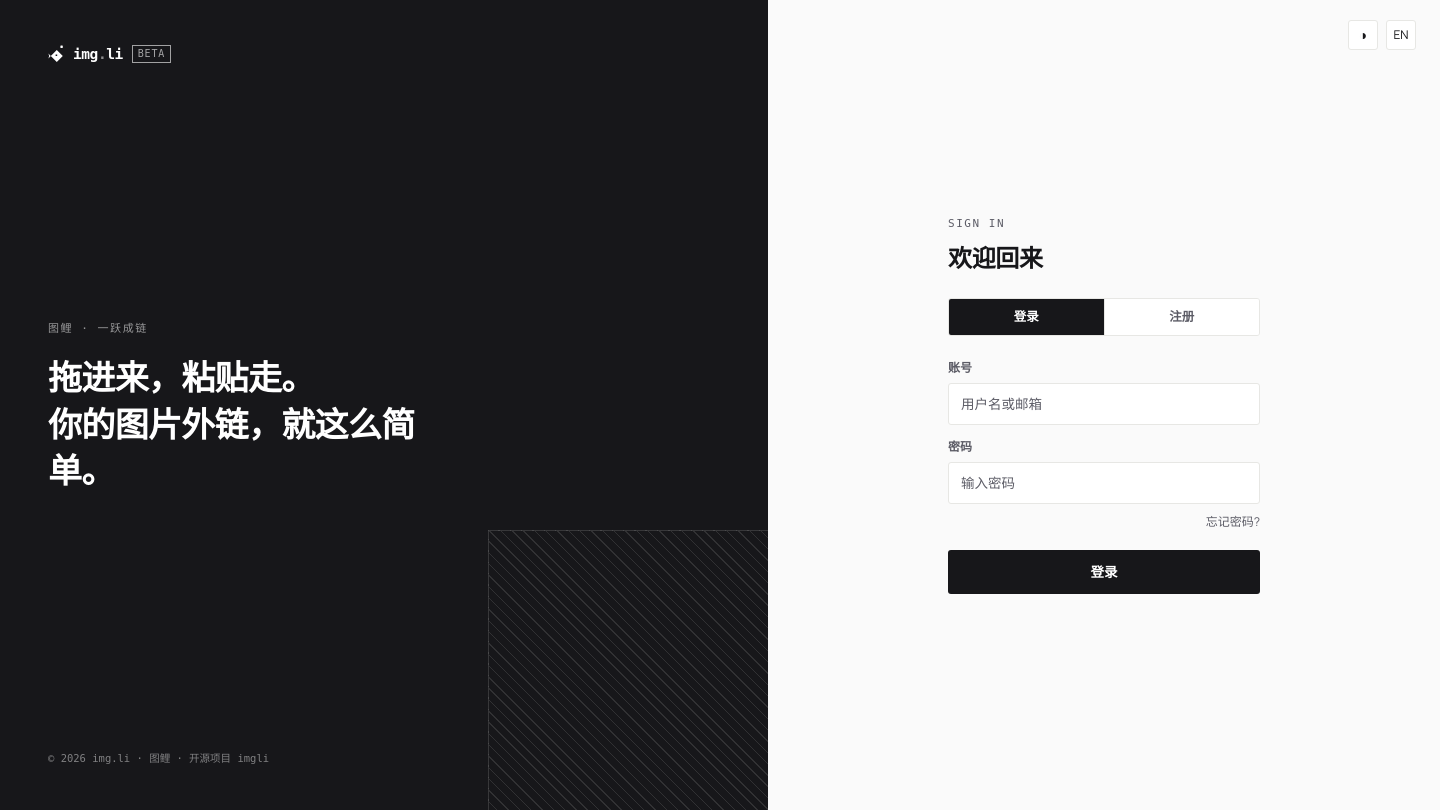
Scenario: 邮箱格式非法行内报错
Click the button "注册" at x=1181, y=317, box [1104,299,1259,335]
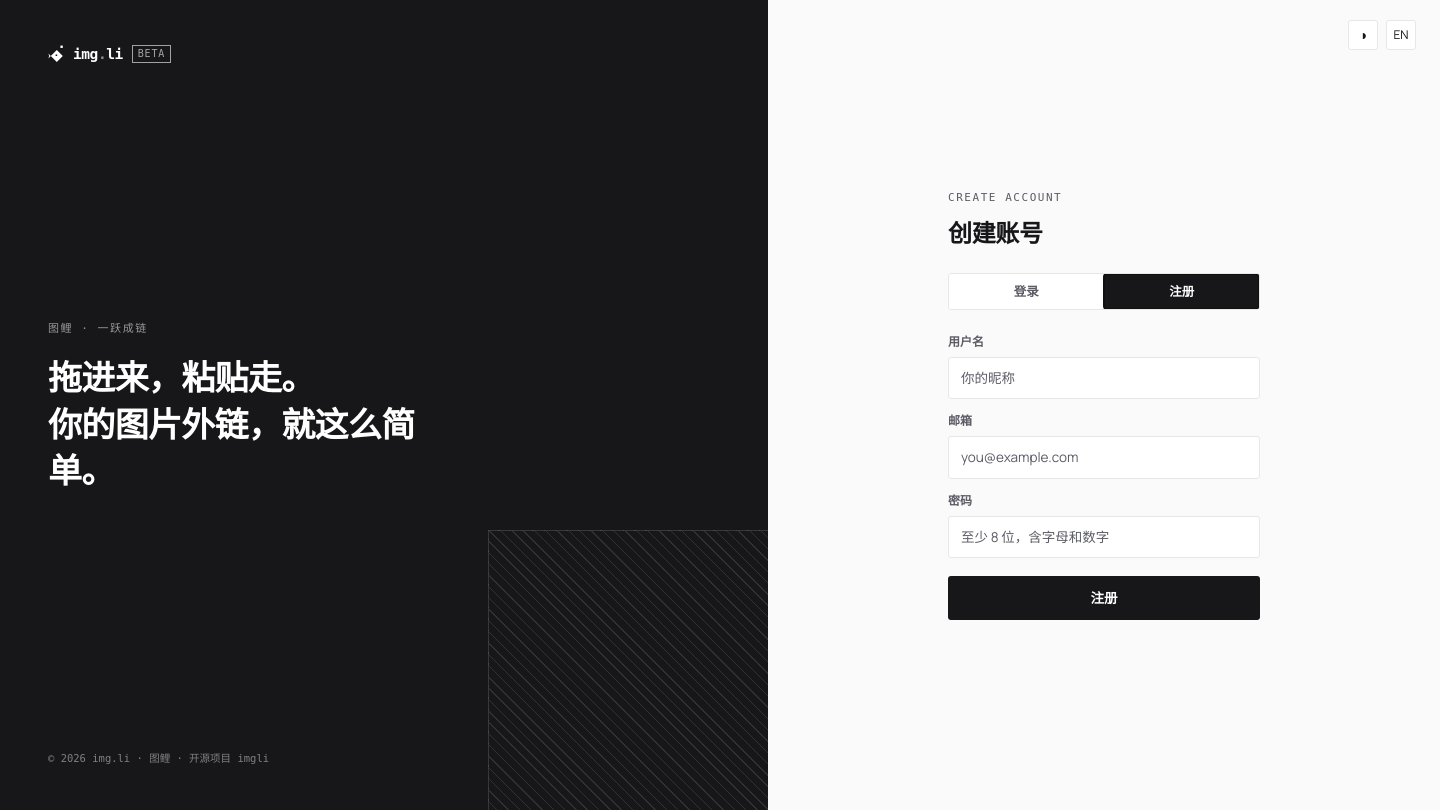
Type "ling" into the field labelled "用户名" at x=1104, y=378, box [948,357,1260,399]
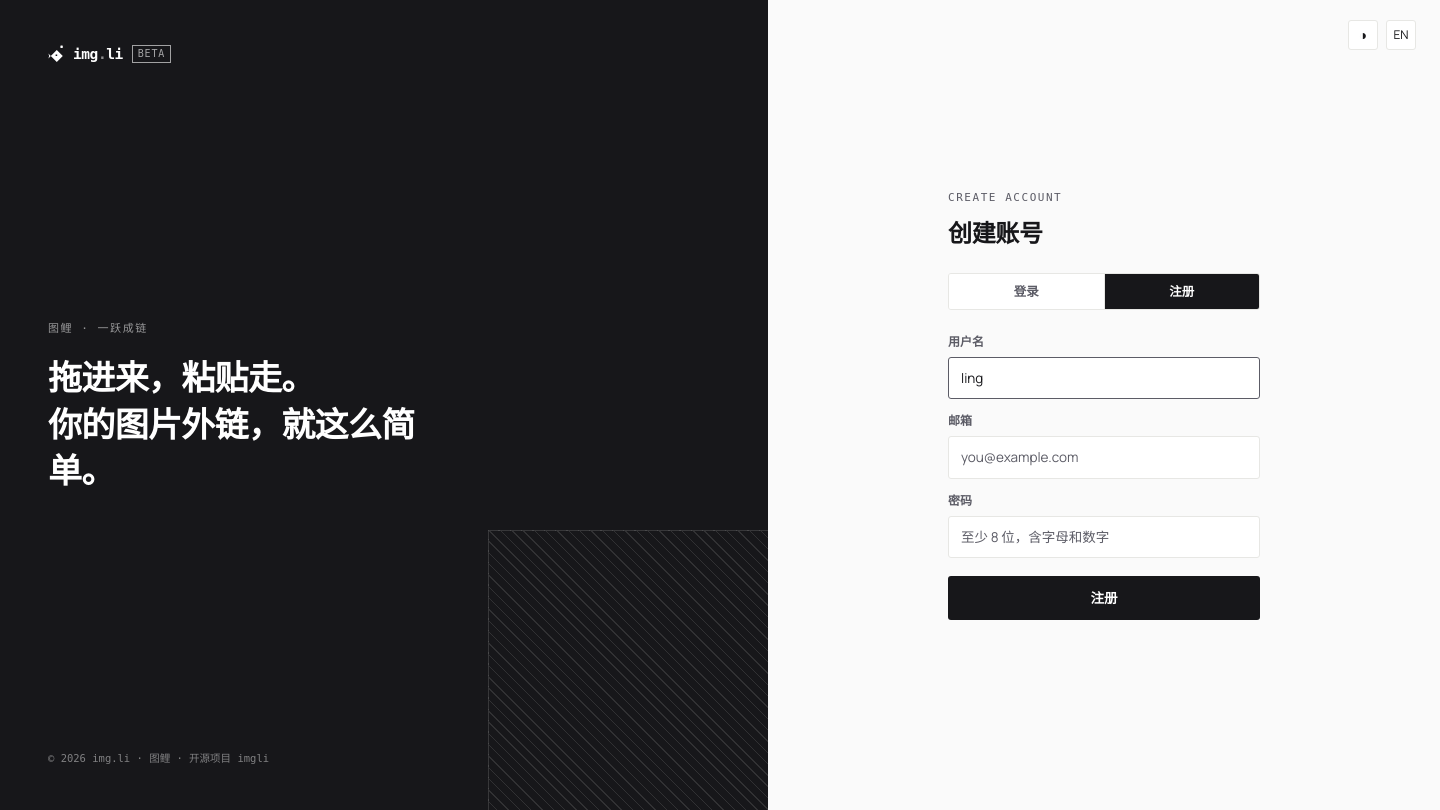
Type "not-an-email" into the field labelled "邮箱" at x=1104, y=457, box [948,436,1260,479]
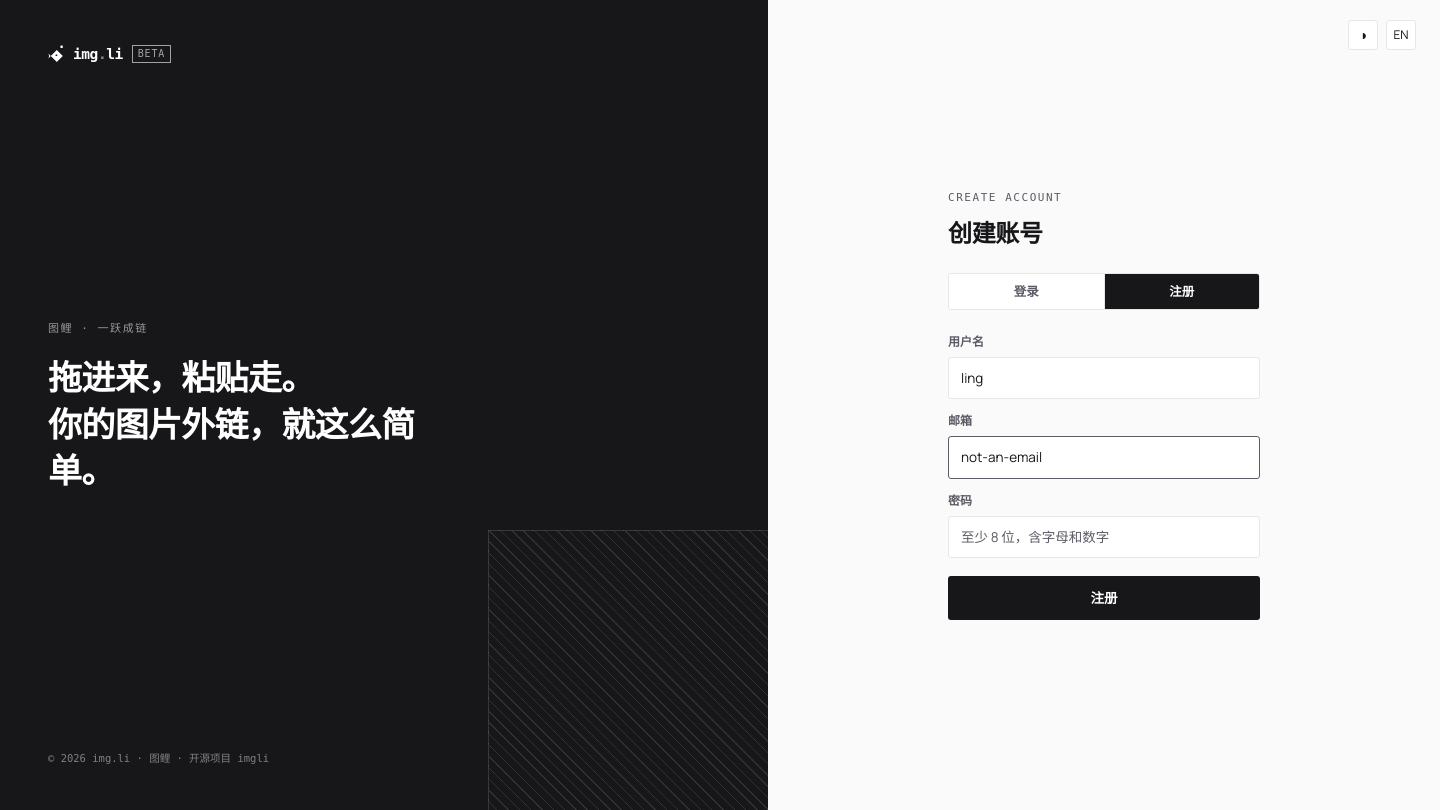
Type "passw0rd1" into the password field labelled "密码" at x=1104, y=537, box [948,516,1260,558]
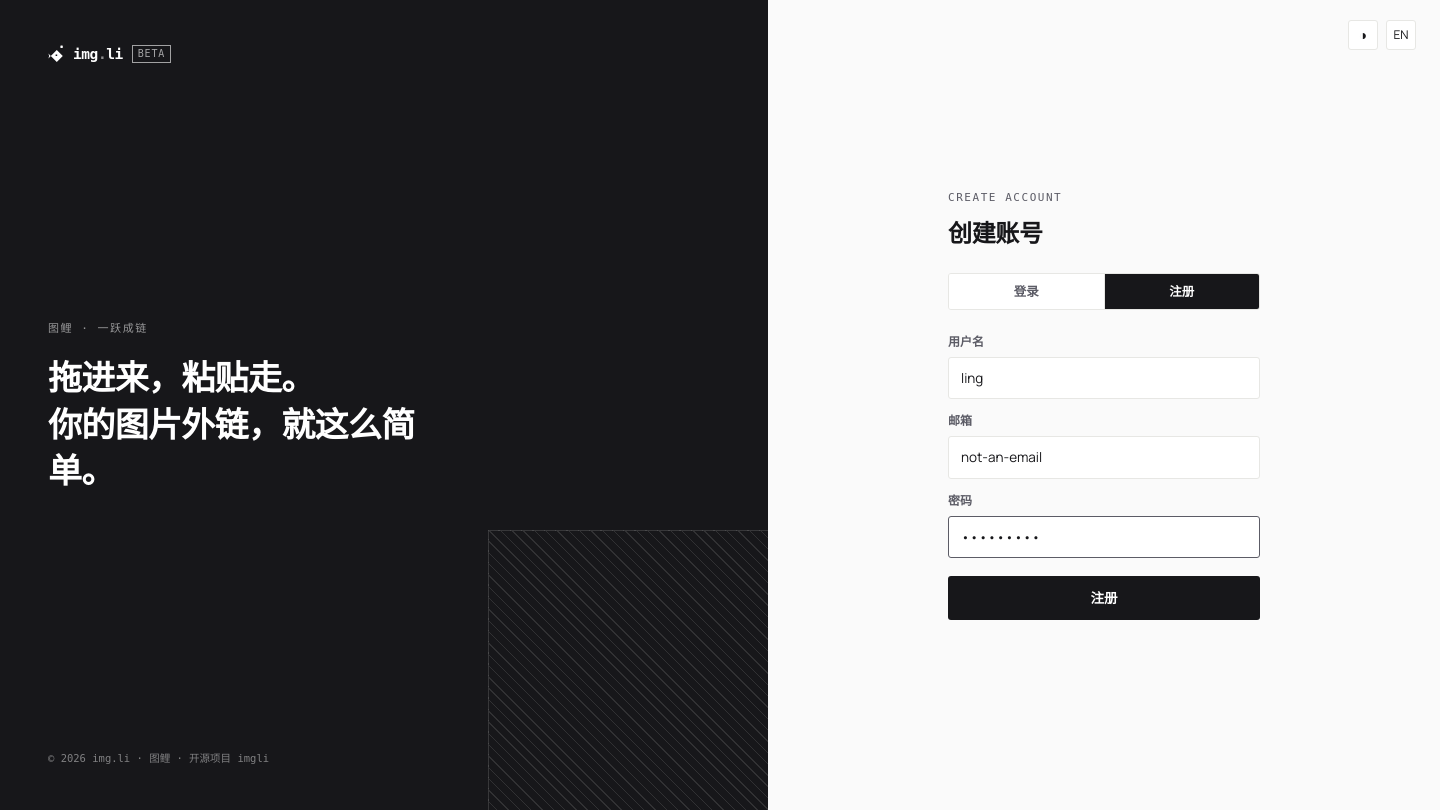
Click the button with test id "auth-submit" at x=1104, y=598, box [948,576,1260,620]
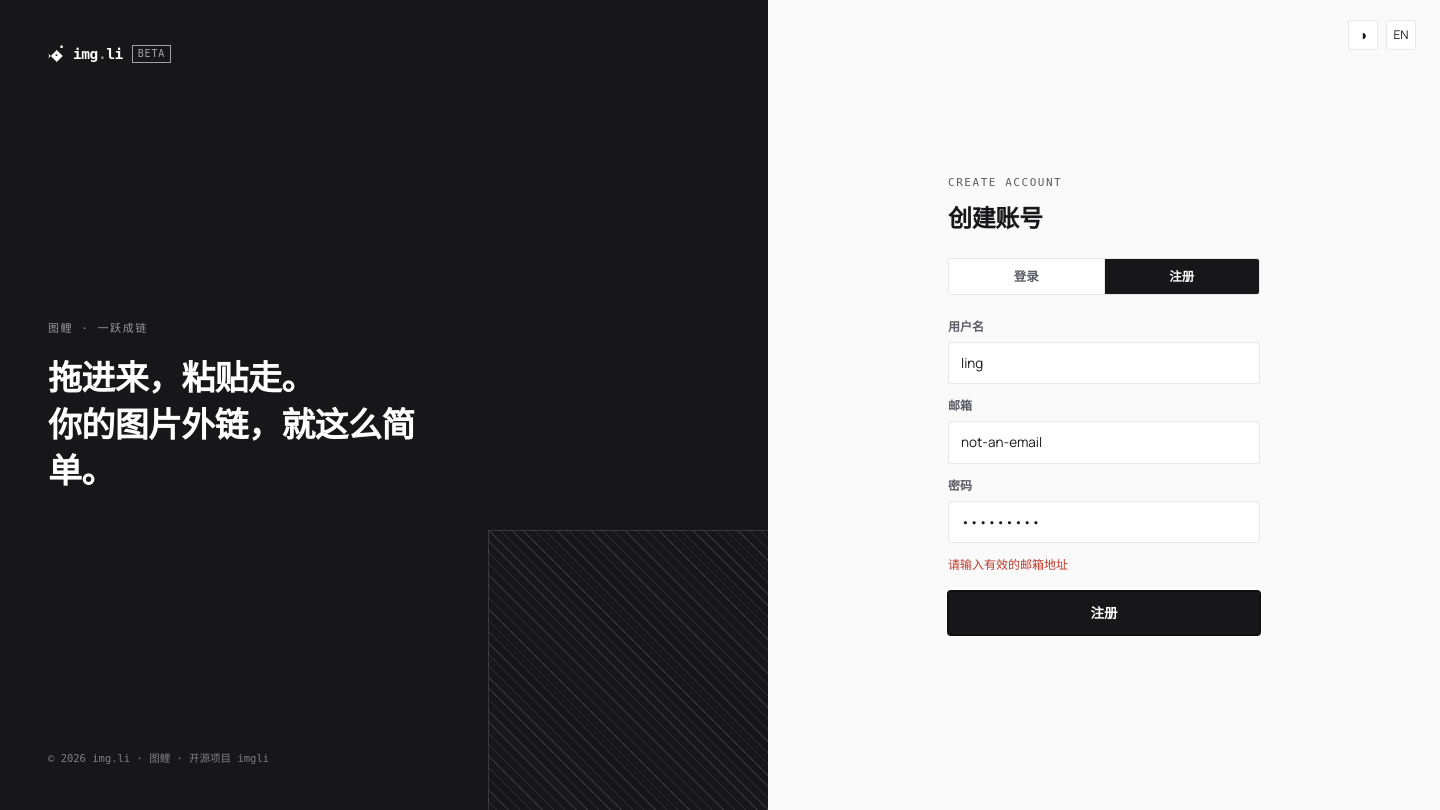
Check: the text "请输入有效的邮箱地址" is shown, box [948,556,1068,573]
